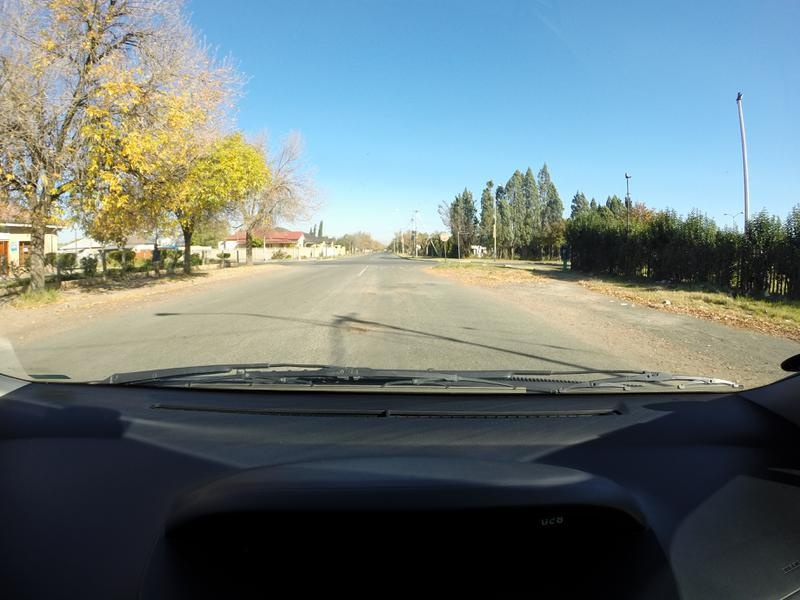pothole: (330, 317, 378, 340)
